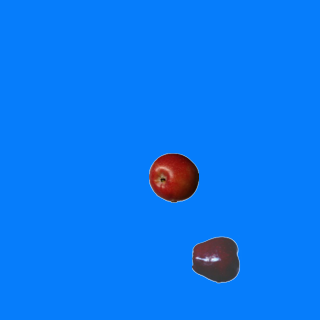Apple Braeburn: (148, 152, 198, 202)
Apple Red Delicious: (191, 234, 241, 284)
